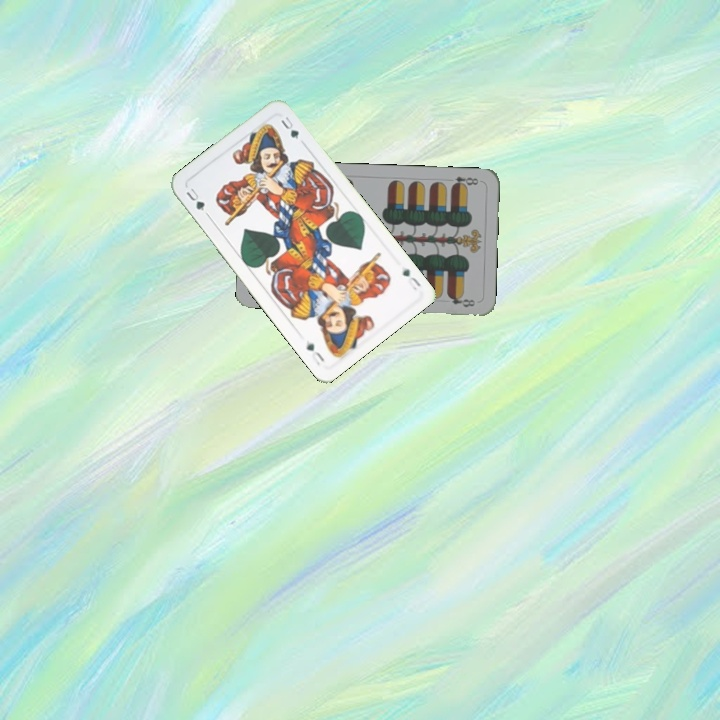E8: (447, 172, 481, 190)
GU: (182, 184, 207, 214), (398, 263, 423, 293)
